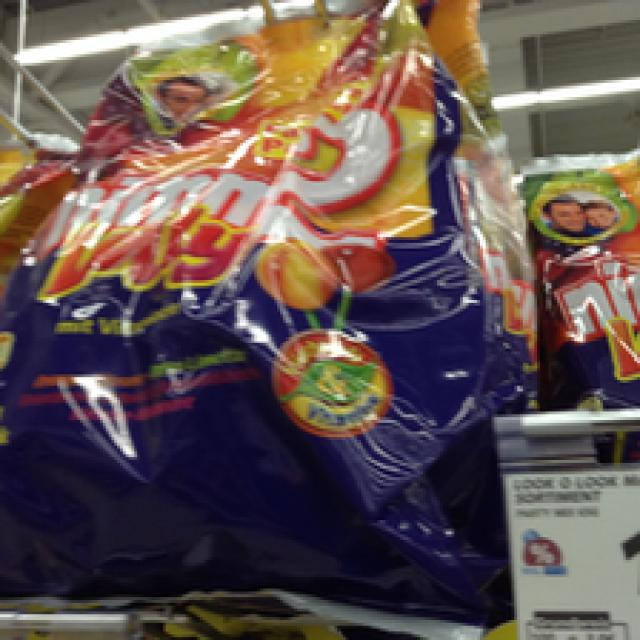groceries: (40, 17, 491, 460)
